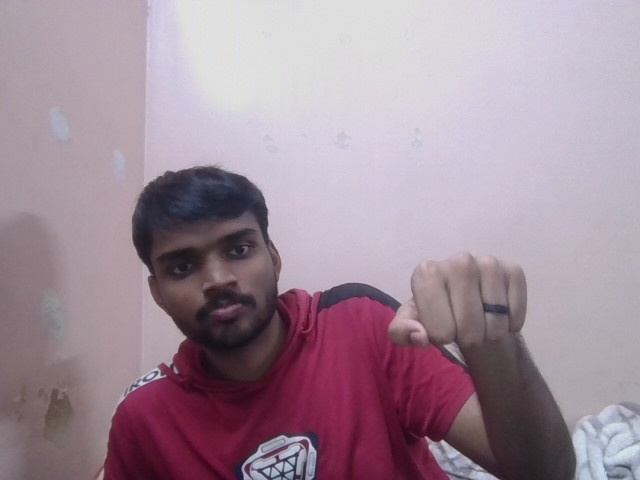Yes: (386, 246, 540, 349)
